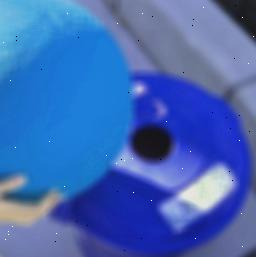algae: (0, 0, 137, 203)
